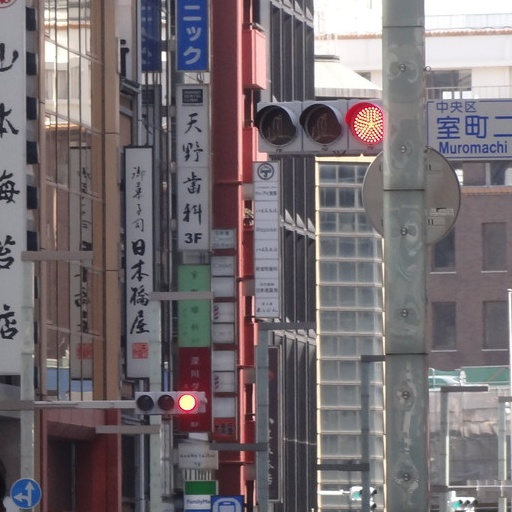Traffic_Signal_Red: (248, 97, 388, 150)
